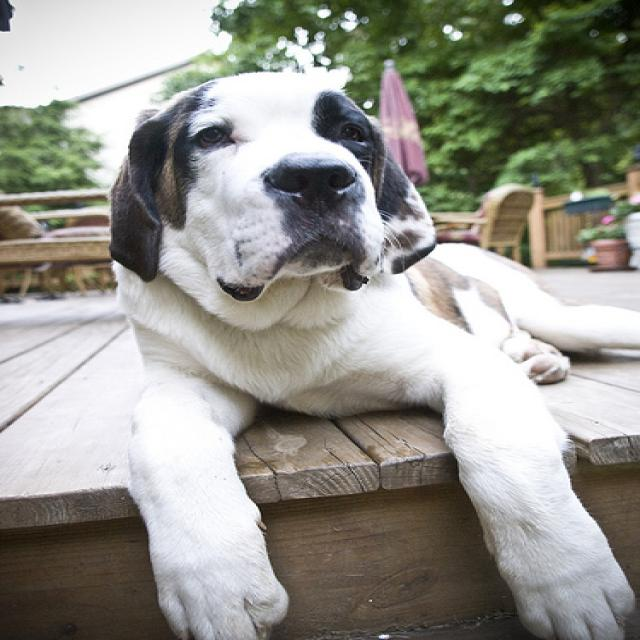dog: (108, 69, 435, 298)
